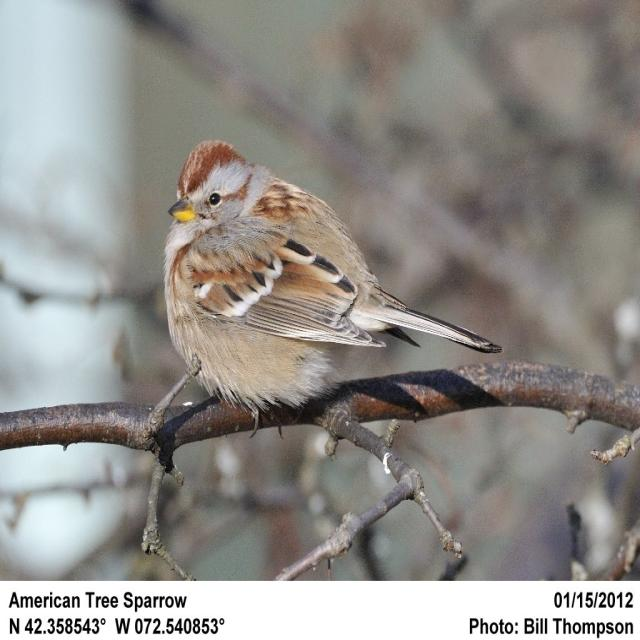bird: (142, 130, 507, 434)
